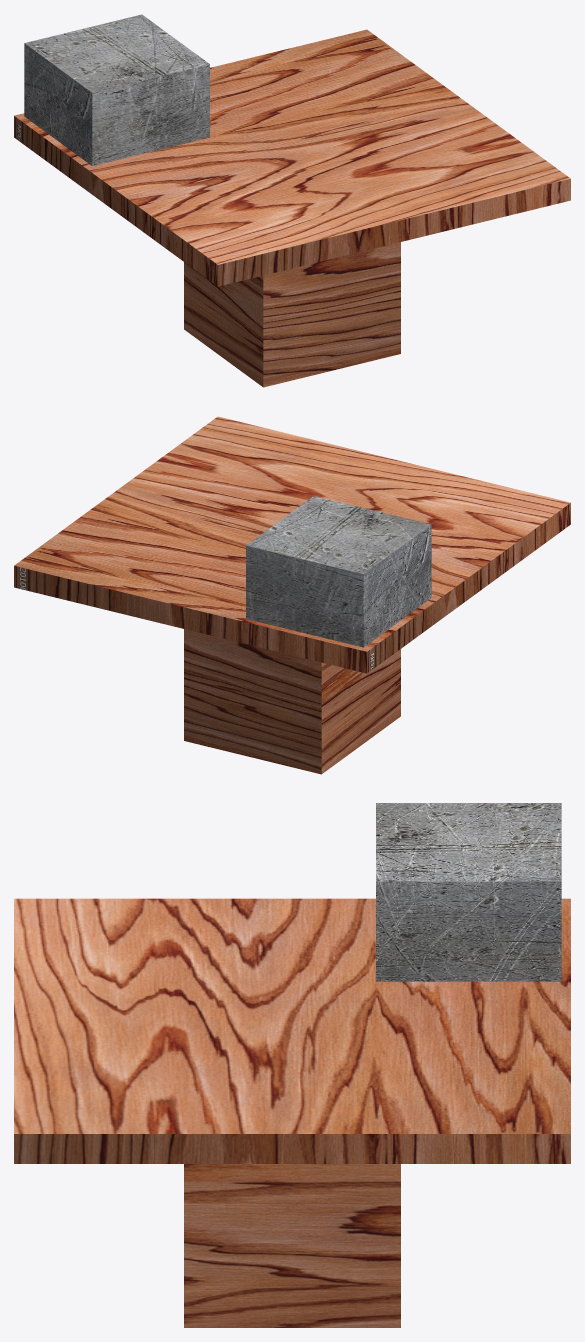
File: desk.dae
The picture shows the model from 3 angles, top to bottom: view 1: azimuth 30°, elevation 25°; view 2: azimuth 150°, elevation 25°; view 3: azimuth 270°, elevation 25°; orthographic projection. The views are drawn at different scales.
Visible parts, largest first — view 1: 立方体.001, 立方体; view 2: 立方体.001, 立方体; view 3: 立方体.001, 立方体.
Part boxes in pixels (x1,y1,x2,y2): 立方体.001: (14, 29, 570, 387); 立方体: (24, 14, 209, 165); 立方体.001: (14, 416, 570, 774); 立方体: (246, 496, 431, 647); 立方体.001: (14, 898, 570, 1327); 立方体: (376, 803, 561, 981).
Bounding box in the file's own units: 1.5 × 1.5 × 1.09.
